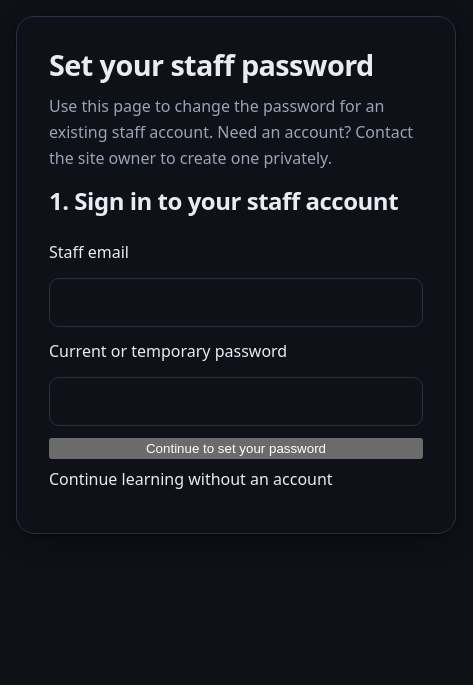
Scenario: private staff password setup › rejects a session changed by another tab before updating a password
Type "owner@example.com" into the field labelled "Staff email". click: {"x": 236, "y": 302}
box: x1=49 y1=278 x2=423 y2=327
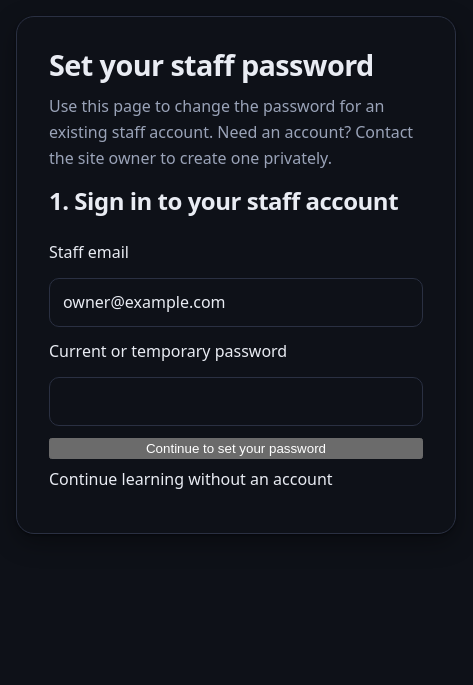
Type "test-temporary-value" into the password field labelled "Current or temporary password". click: {"x": 236, "y": 402}
box: x1=49 y1=377 x2=423 y2=426
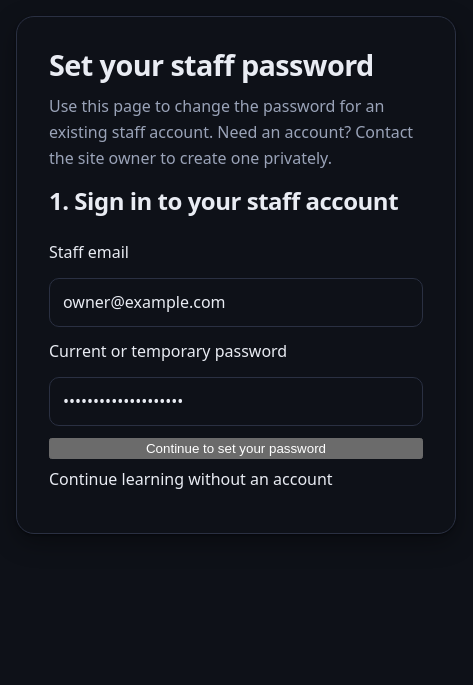
Click the button "Continue to set your password". click: {"x": 236, "y": 449}
box: x1=49 y1=438 x2=423 y2=459
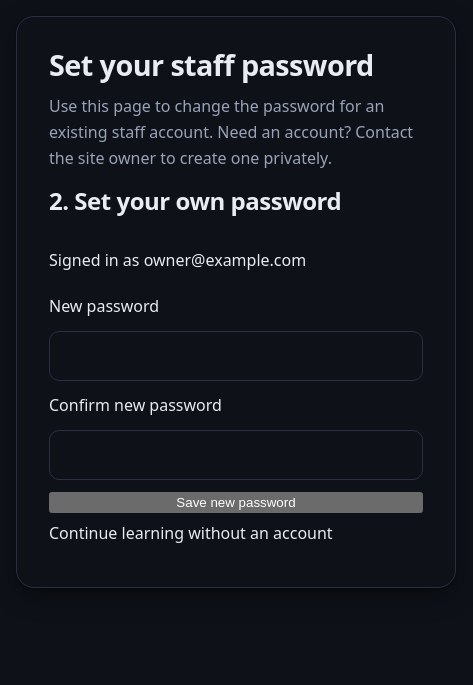
Check: the password field labelled "New password" is shown
Type "test-new-password" into the password field labelled "New password". click: {"x": 236, "y": 356}
box: x1=49 y1=331 x2=423 y2=381
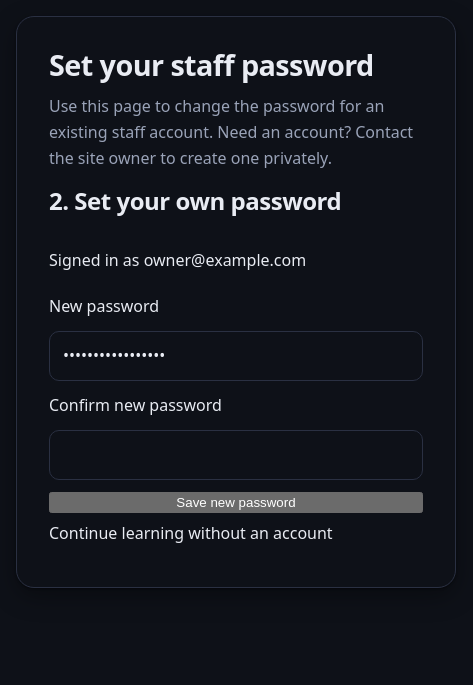
Type "test-new-password" into the password field labelled "Confirm new password". click: {"x": 236, "y": 455}
box: x1=49 y1=430 x2=423 y2=480
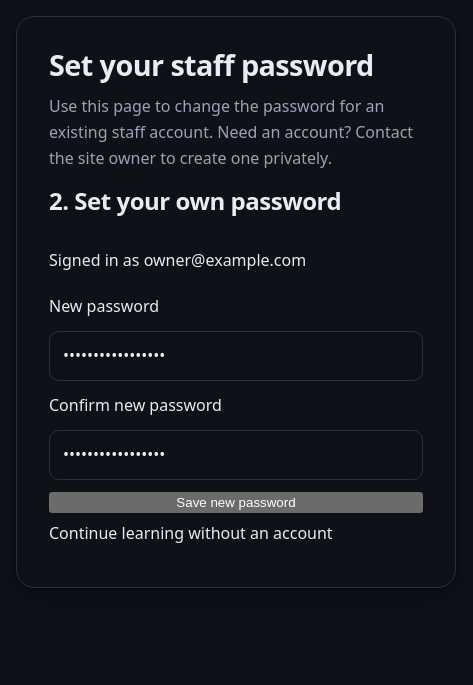
Click the button "Save new password". click: {"x": 236, "y": 502}
box: x1=49 y1=492 x2=423 y2=513
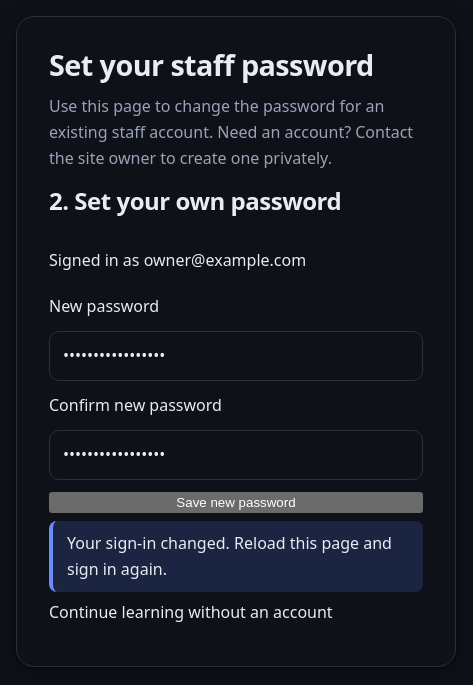
Check: the message shows "sign-in changed", box x1=67 y1=532 x2=392 y2=580
